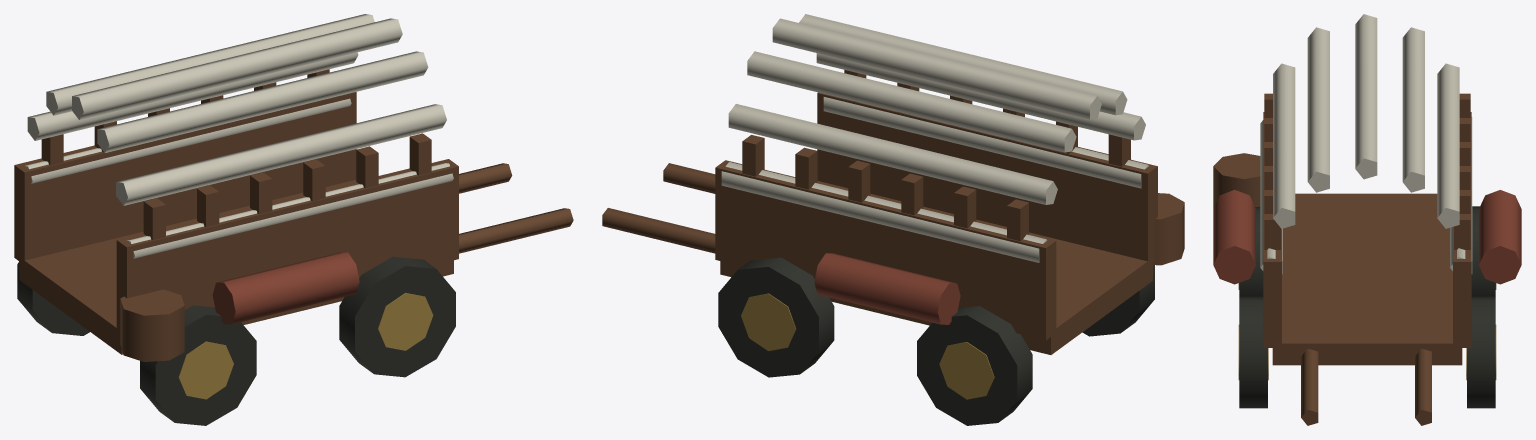
Rendered from custom-unit-settler.glb.
The picture shows the model from 3 angles, left to right: view 1: azimuth 30°, elevation 25°; view 2: azimuth 150°, elevation 25°; view 3: azimuth 270°, elevation 25°; orthographic projection. The views are drawn at different scales.
Visible parts, largest first — view 1: custom-unit-settler; view 2: custom-unit-settler; view 3: custom-unit-settler.
Boxes of the visible parts, x1,y1,x2,y2 form: custom-unit-settler: (14,14,573,425); custom-unit-settler: (602,14,1184,425); custom-unit-settler: (1213,14,1521,425).
Bounding box in the file's own units: 1 × 0.585 × 0.5991.
